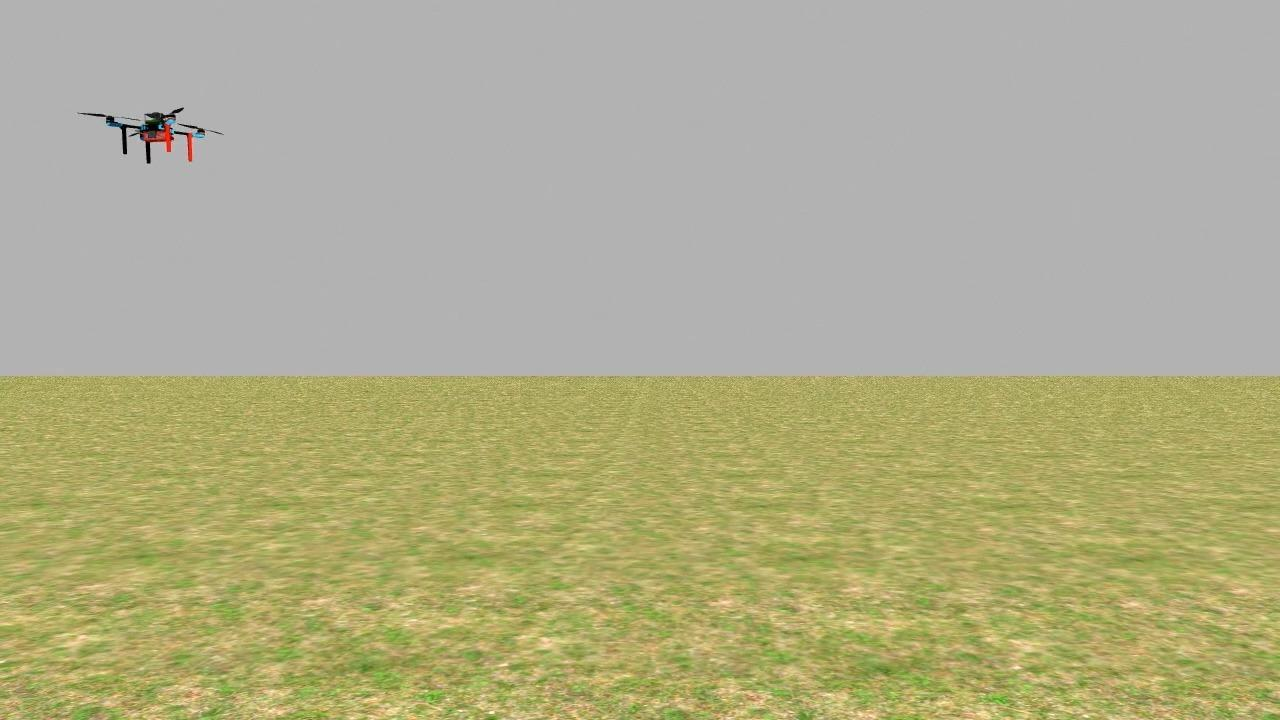UAV: (80, 89, 227, 180)
